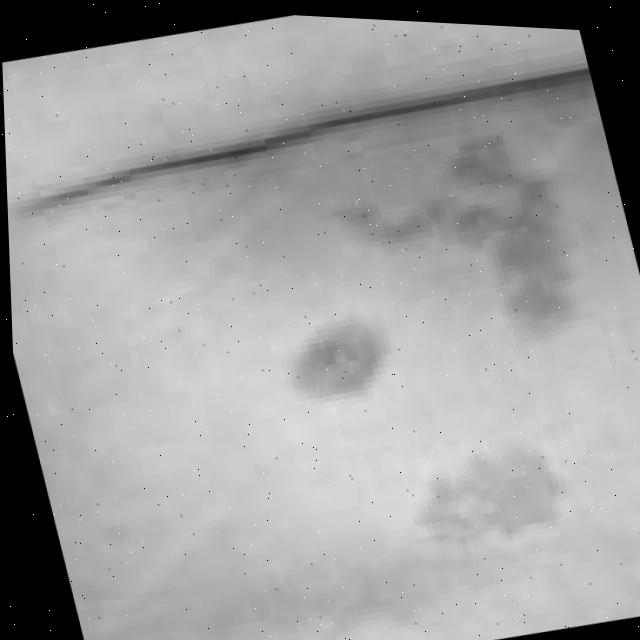Shingles: (322, 108, 594, 372), (393, 420, 582, 566)
